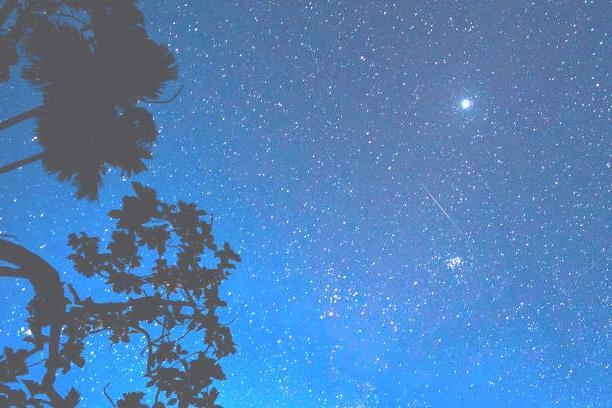meteorite: (421, 173, 467, 235)
